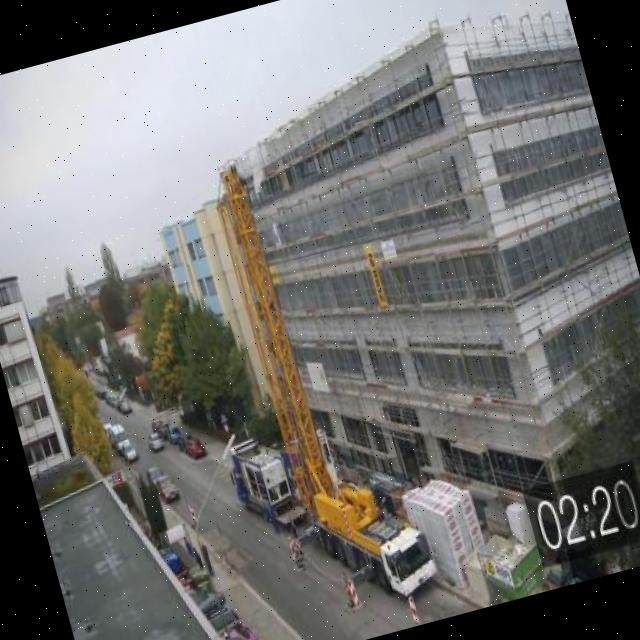Mobile Crane: (191, 141, 438, 618)
